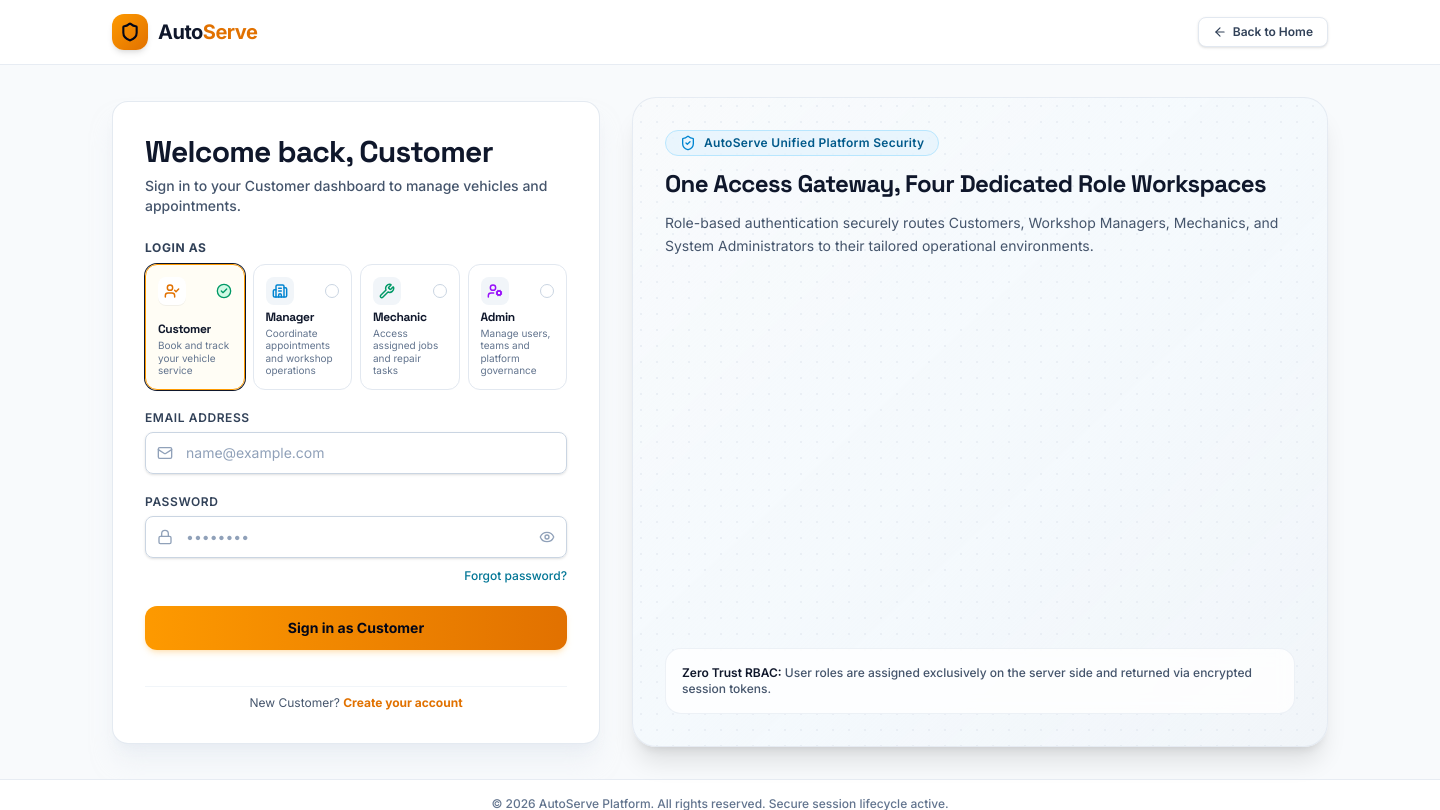
Scenario: LoginPage Four-Role Selector & Security Tests › 5. Admin role card can be selected by mouse
Click the radio button with aria-label "Admin —" at [517, 326], box [468,264,567,390]
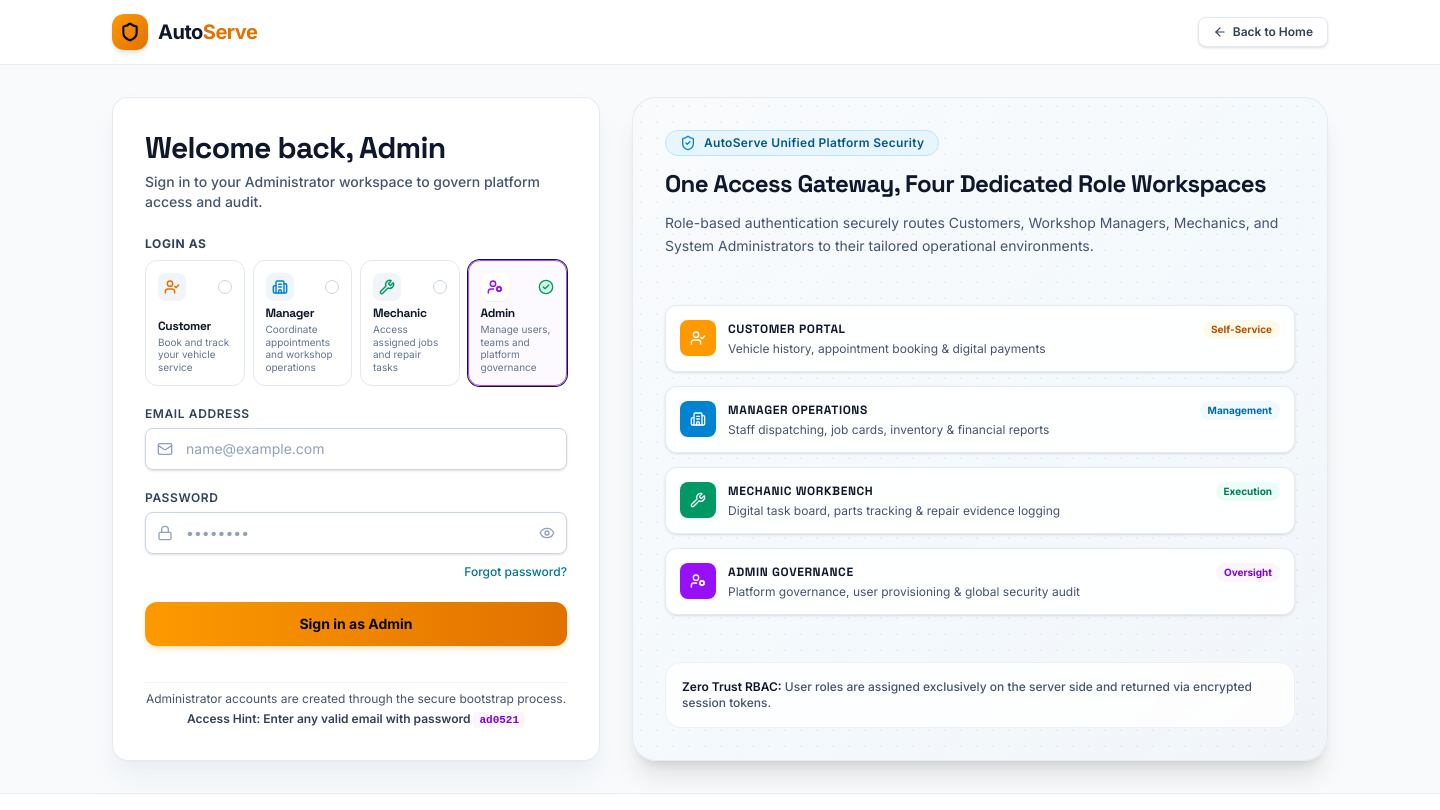
expect the button "Sign in as Admin" is shown: met, box [145,602,567,646]
